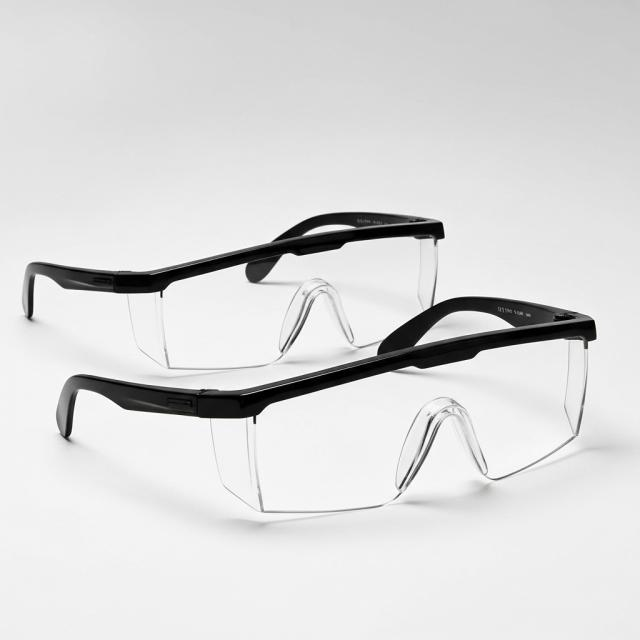oculos-epi: (57, 306, 595, 511), (22, 212, 444, 368)
